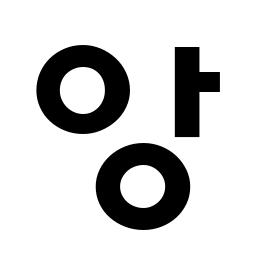Gaji: (161, 59, 215, 106)
